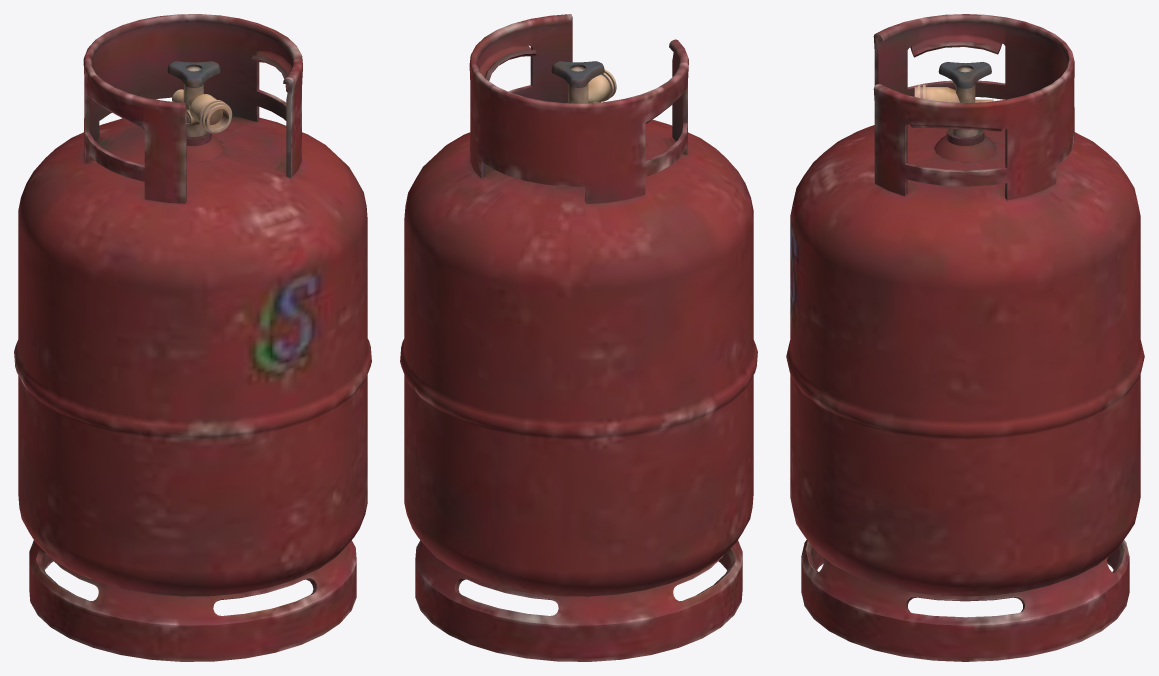
The model's file is propane.glb.
The picture shows the model from 3 angles, left to right: view 1: azimuth 30°, elevation 25°; view 2: azimuth 150°, elevation 25°; view 3: azimuth 270°, elevation 25°; orthographic projection.
Visible parts, largest first — view 1: propane_tank; view 2: propane_tank; view 3: propane_tank.
Part boxes in pixels (bbox=[...]): propane_tank: bbox=[14, 14, 371, 661]; propane_tank: bbox=[400, 14, 757, 661]; propane_tank: bbox=[786, 14, 1144, 661].
Bounding box in the file's own units: 0.3374 × 0.5538 × 0.3374.
1 material, 1 textured.
